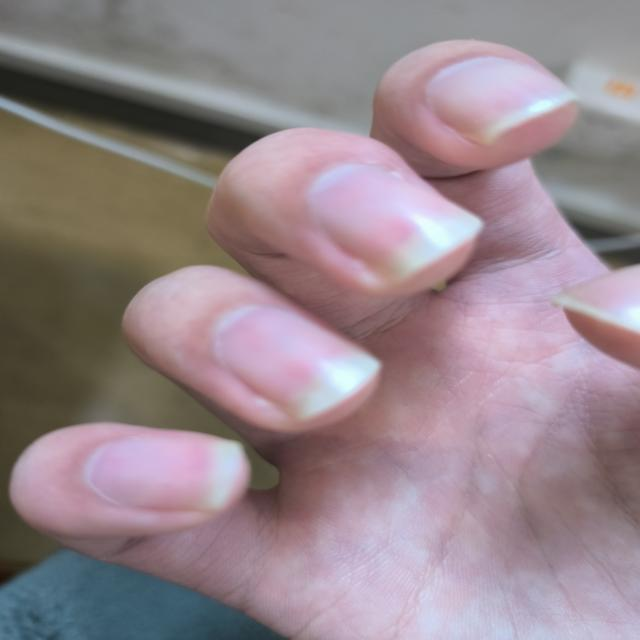Nail: (310, 165, 481, 283), (214, 306, 382, 421), (427, 57, 584, 144), (82, 438, 239, 510), (554, 263, 640, 333)
